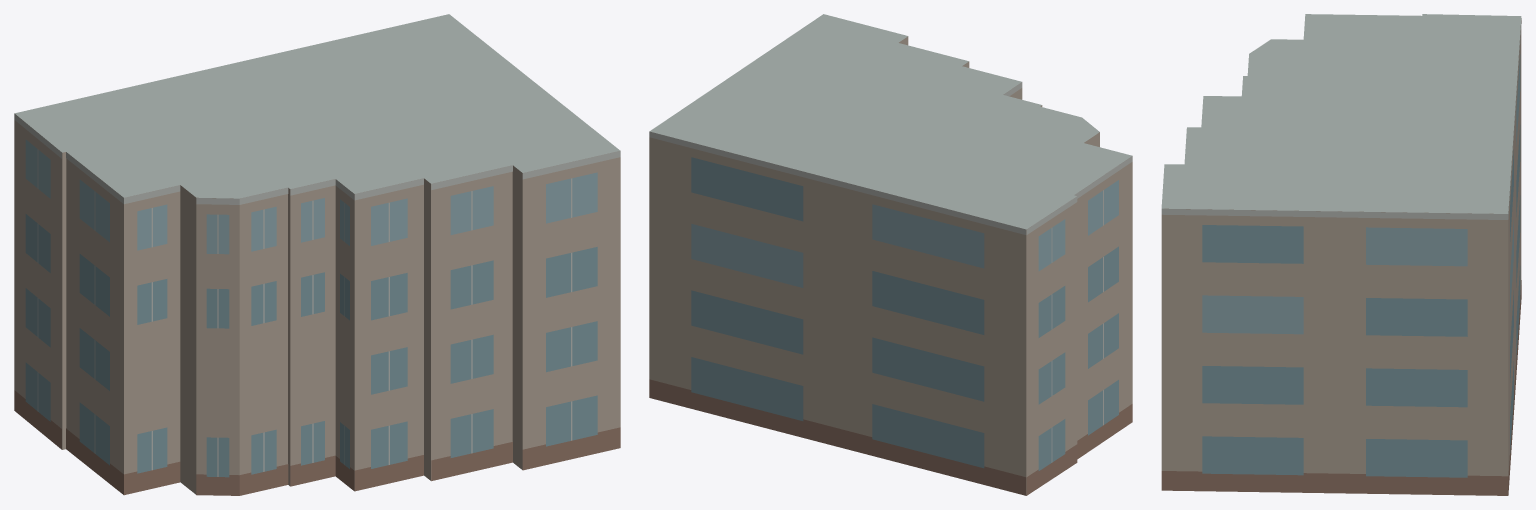
File: survey-upis-32974454.glb
The picture shows the model from 3 angles, left to right: view 1: azimuth 30°, elevation 25°; view 2: azimuth 150°, elevation 25°; view 3: azimuth 270°, elevation 25°; orthographic projection. The views are drawn at different scales.
Parts seen in each view (by area): view 1: survey-upis-32974454.tmp; view 2: survey-upis-32974454.tmp; view 3: survey-upis-32974454.tmp.
Boxes of the visible parts, x1=… form: survey-upis-32974454.tmp: x1=14, y1=14, x2=620, y2=495; survey-upis-32974454.tmp: x1=649, y1=14, x2=1132, y2=495; survey-upis-32974454.tmp: x1=1161, y1=14, x2=1521, y2=495.
Size of the model in its own units: 17.13 by 11.25 by 13.03.
